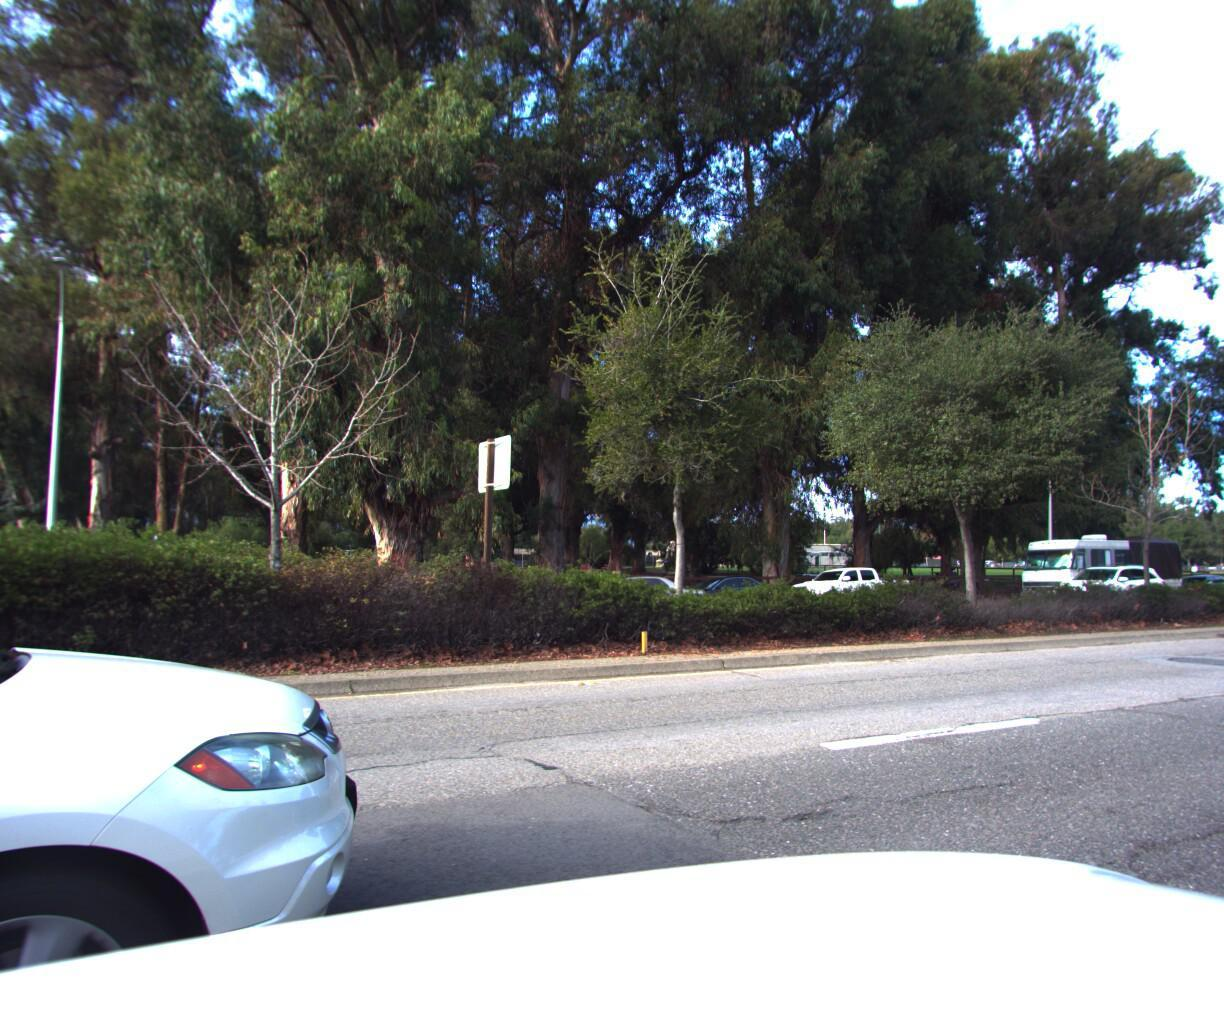car: (773, 560, 919, 612), (655, 569, 796, 621), (1045, 559, 1172, 610), (604, 565, 726, 615)
other_vehicle: (1003, 526, 1191, 604)
